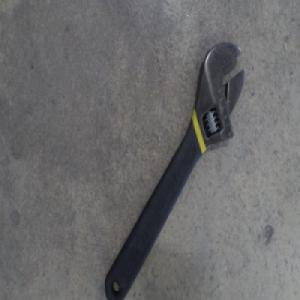AdjustableWrench: (104, 45, 246, 298)
